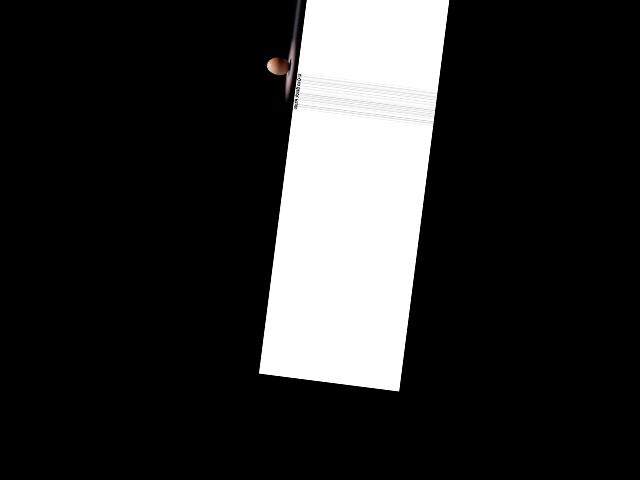egg: (266, 55, 291, 76)
